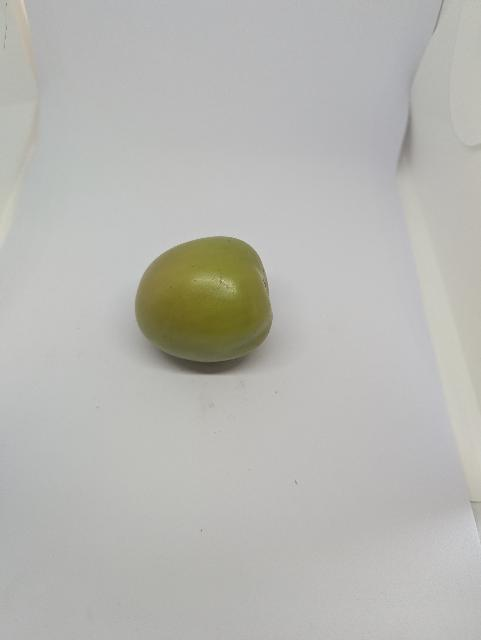green: (129, 233, 283, 374)
